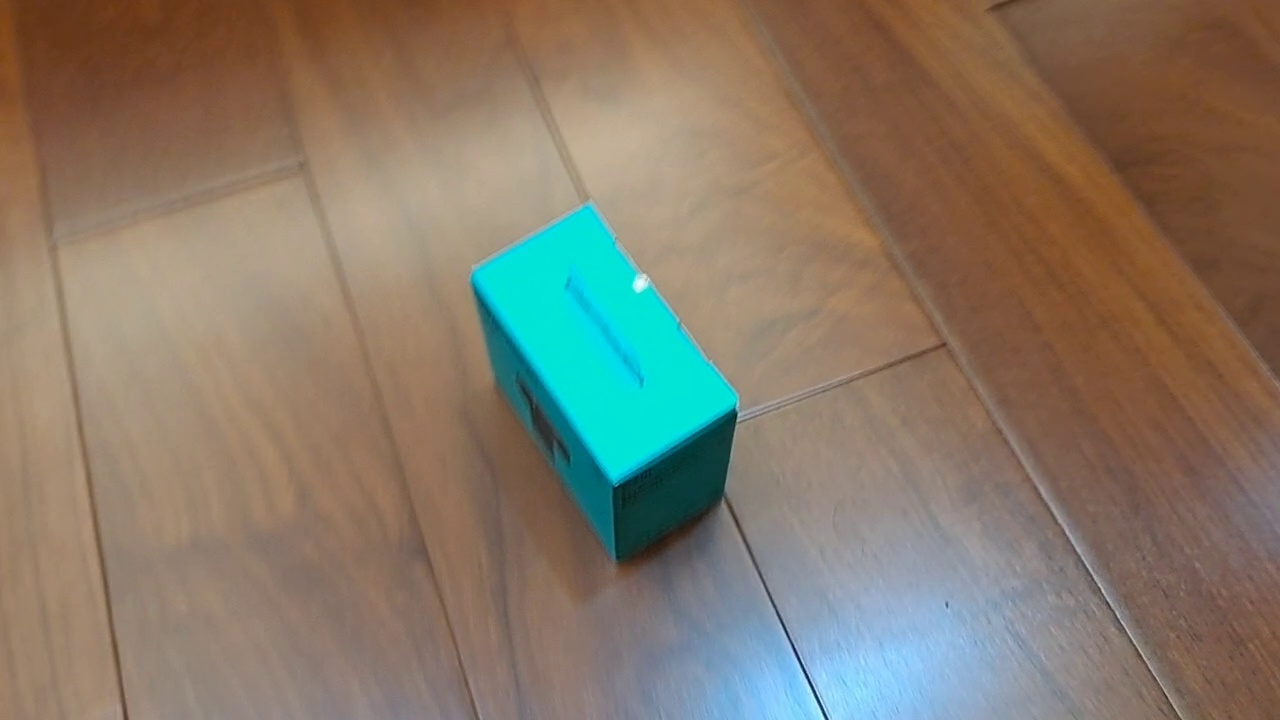webcam: (469, 198, 742, 565)
